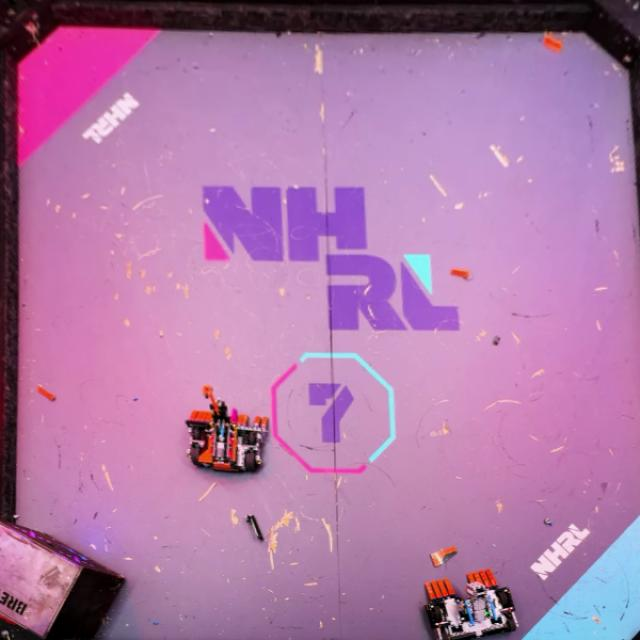housebot: (0, 519, 129, 640)
robot: (186, 384, 270, 475), (421, 568, 518, 640)
